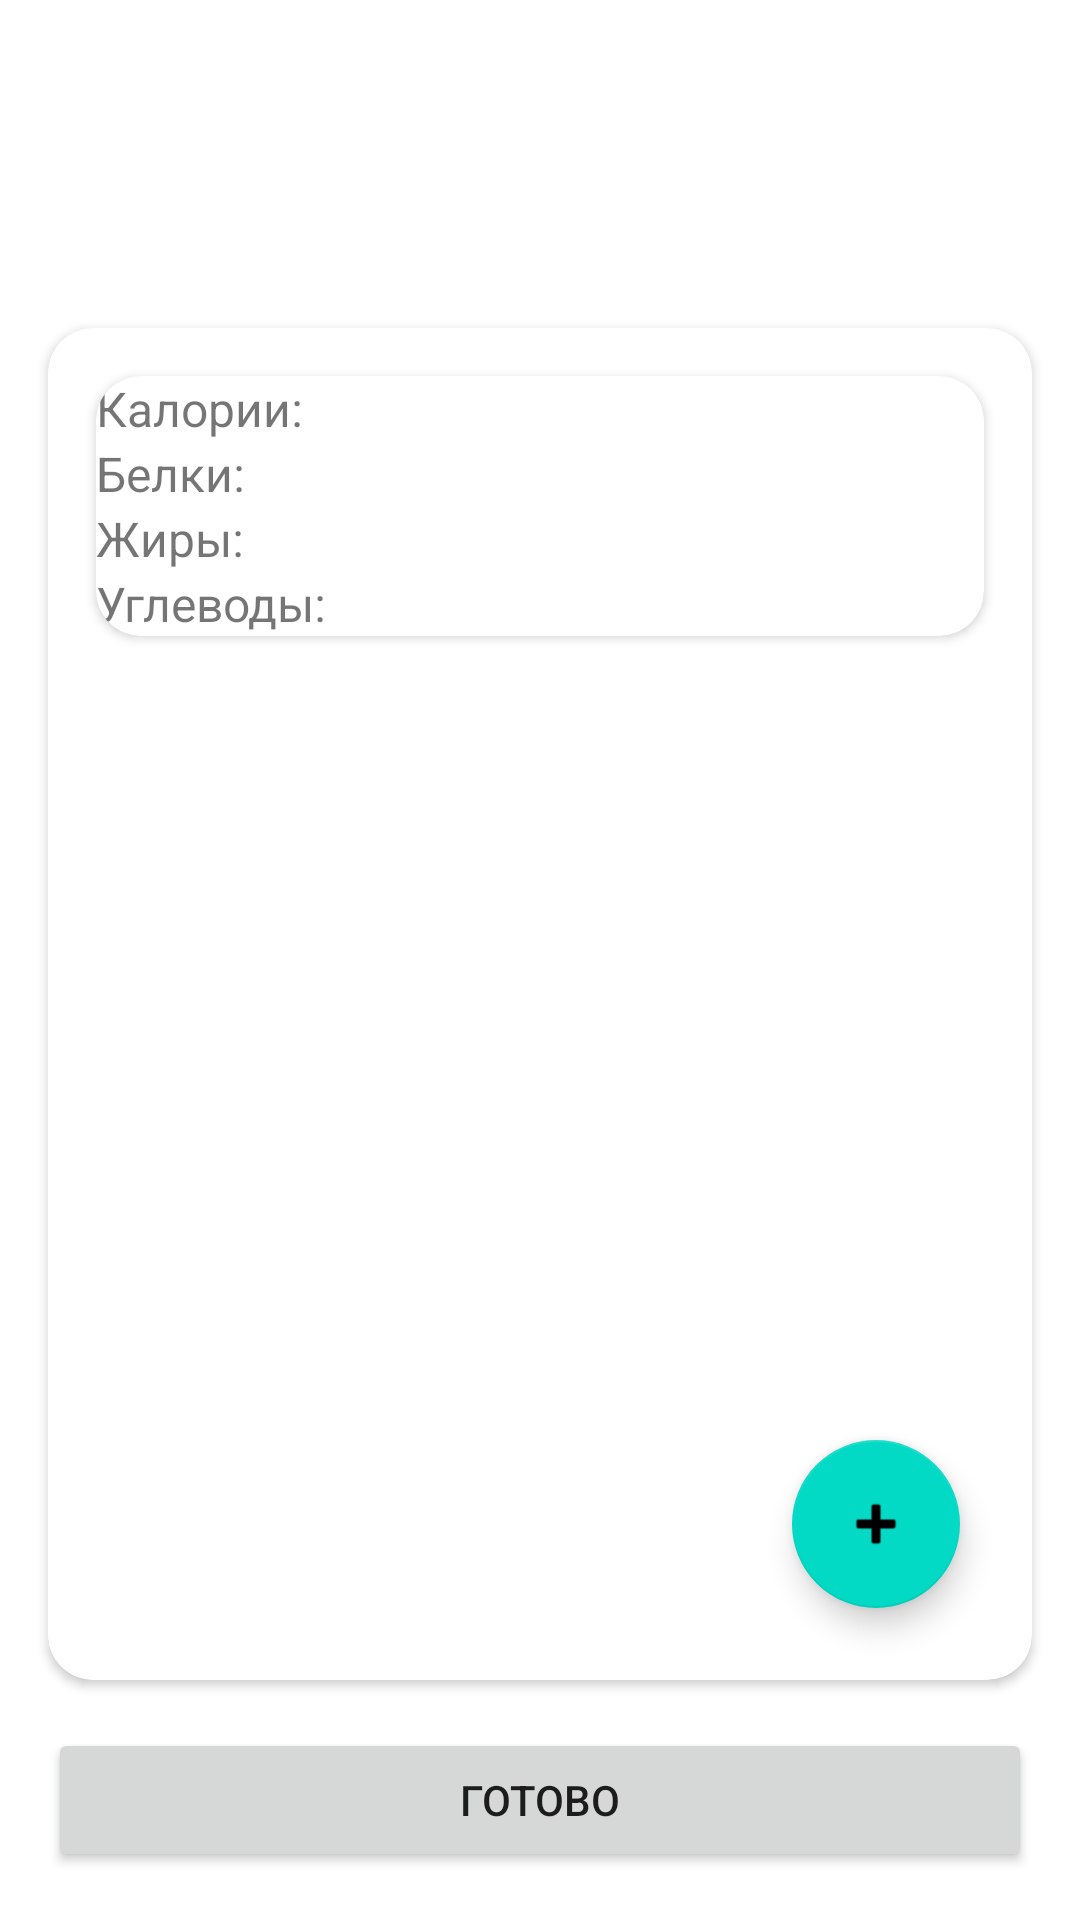

Where to tap for icons on this 1080 x 1920 app screen, as point (x, y):
add: point (876, 1524)
